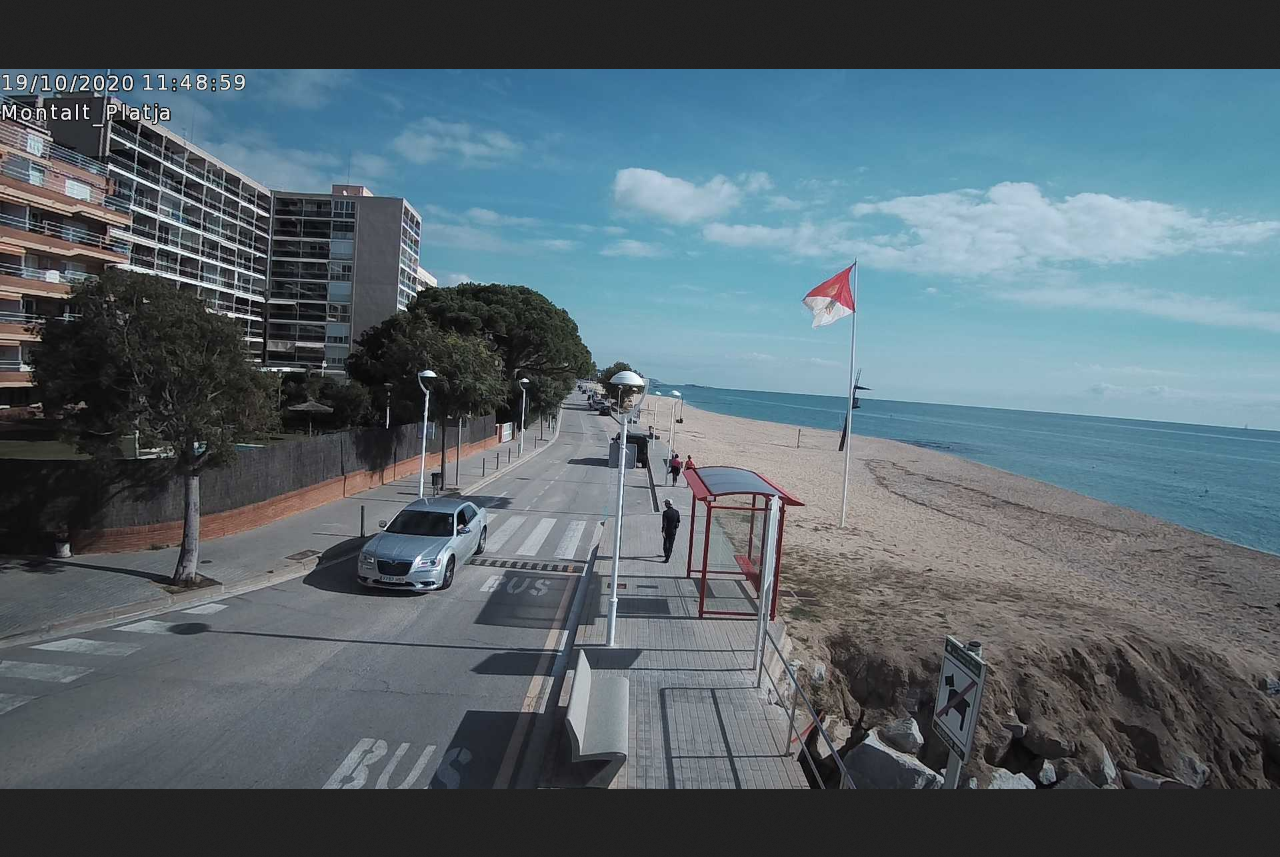yes: (803, 267, 858, 332)
